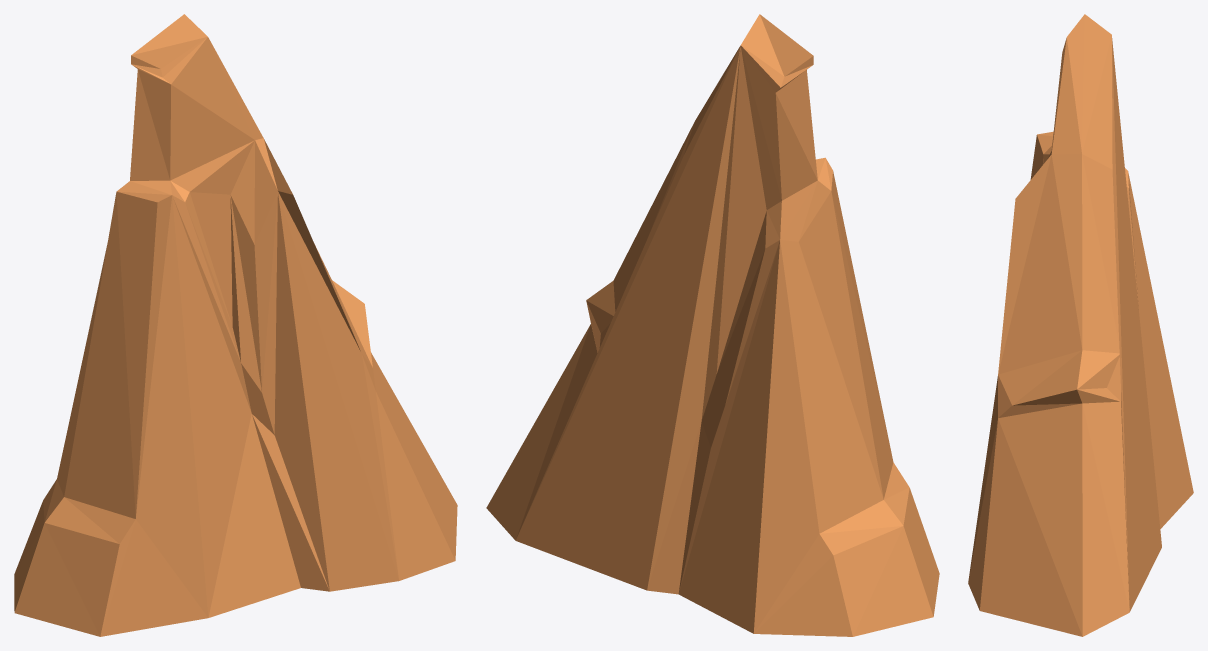
The model's file is Rock_Large_Canyon_Eroded_07.FBX.
3 renders of one model, left to right at view 1: azimuth 30°, elevation 25°; view 2: azimuth 150°, elevation 25°; view 3: azimuth 270°, elevation 25°, orthographic. The views are drawn at different scales.
Visible parts, largest first — view 1: Rock_Large_Canyon_Eroded_07; view 2: Rock_Large_Canyon_Eroded_07; view 3: Rock_Large_Canyon_Eroded_07.
Boxes of the visible parts, x1=… form: Rock_Large_Canyon_Eroded_07: x1=14, y1=14, x2=457, y2=636; Rock_Large_Canyon_Eroded_07: x1=486, y1=14, x2=939, y2=636; Rock_Large_Canyon_Eroded_07: x1=968, y1=14, x2=1193, y2=636.
Bounding box in the file's own units: 9558 × 11473 × 4666.
